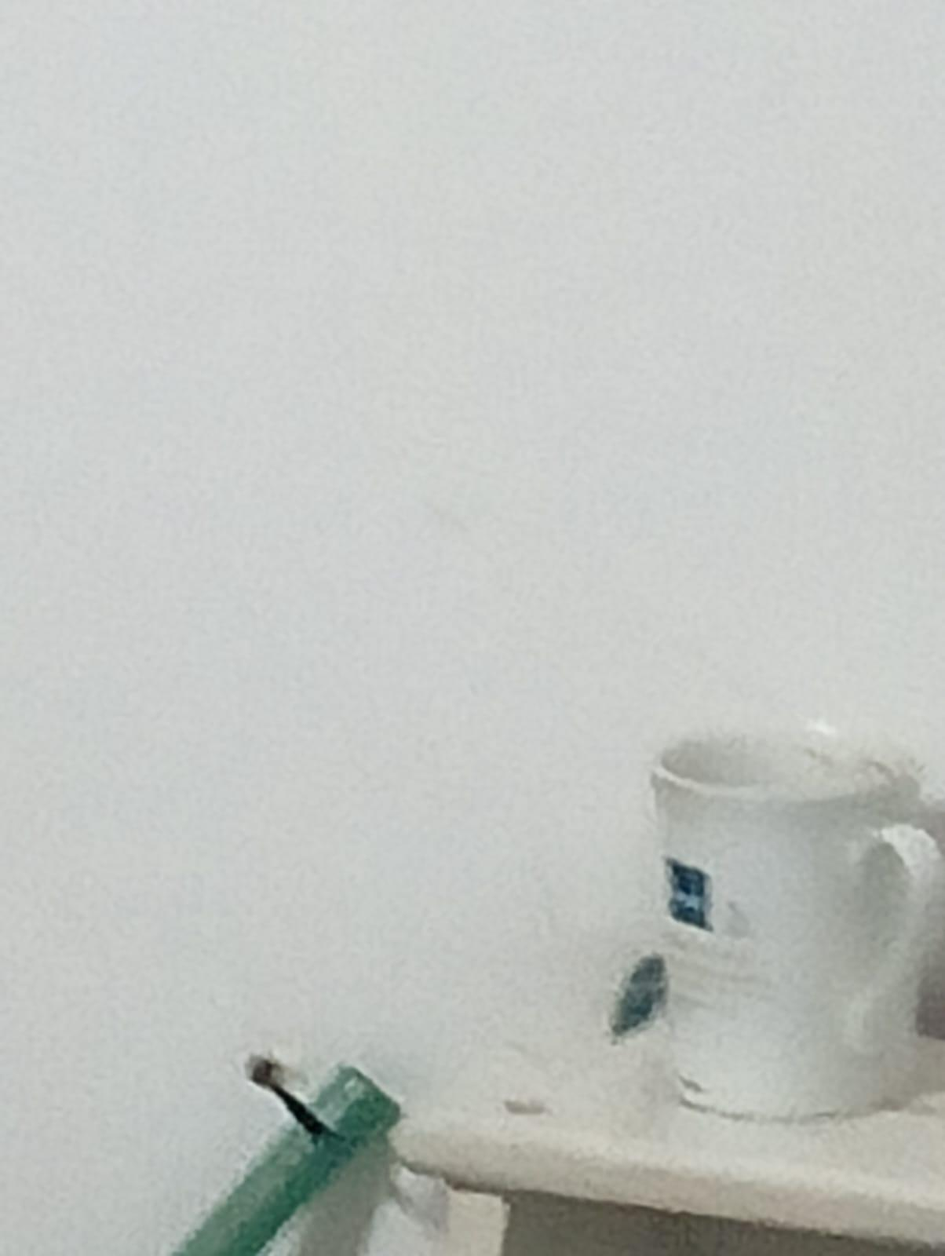cup: (652, 734, 942, 1118)
